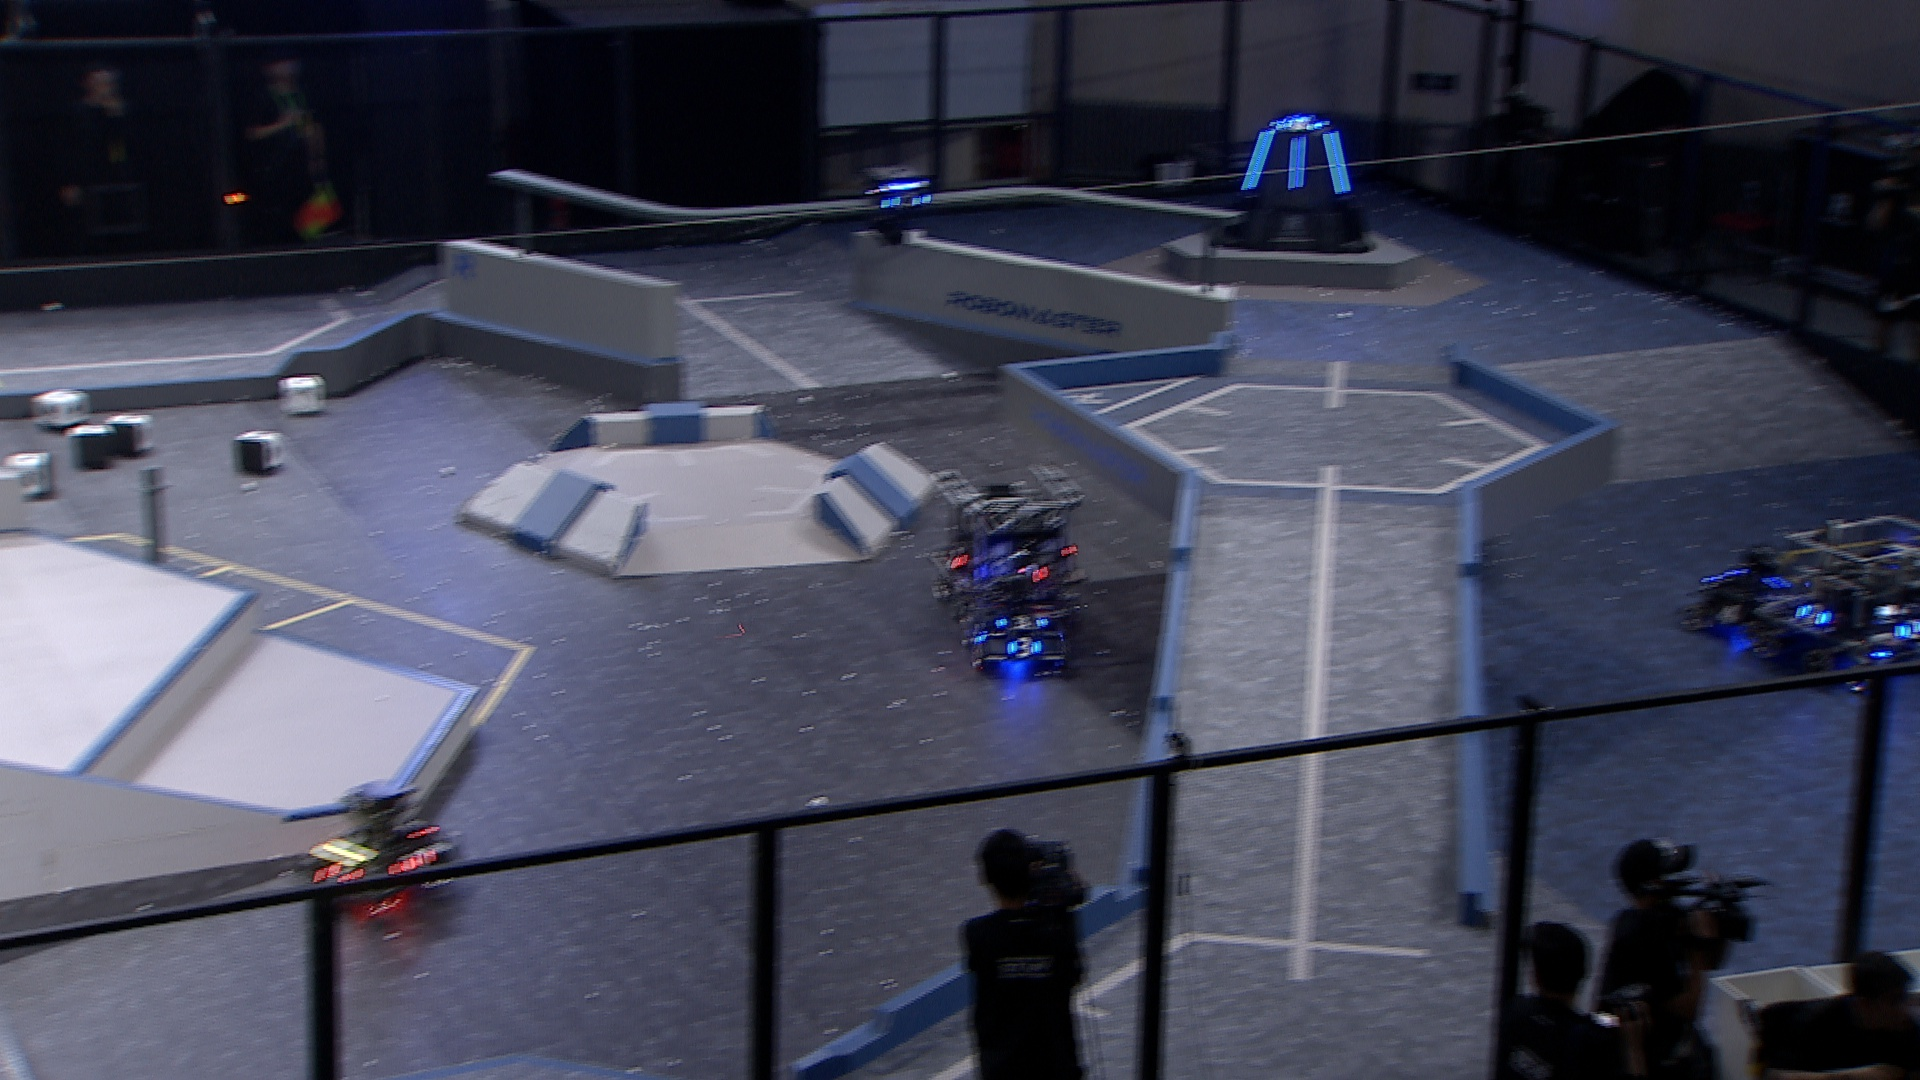armor: (1240, 128, 1276, 195), (1324, 131, 1352, 196), (314, 860, 361, 889), (1286, 135, 1307, 193), (389, 851, 434, 876), (1793, 600, 1833, 626), (994, 613, 1048, 632), (1004, 637, 1044, 661), (394, 818, 438, 839), (1015, 564, 1054, 588), (880, 191, 928, 210), (1276, 116, 1324, 135), (1712, 603, 1746, 628), (942, 546, 969, 568), (1896, 618, 1920, 642), (965, 622, 989, 644)
base: (1200, 111, 1379, 252)
car: (1764, 516, 1920, 694), (922, 462, 1087, 616), (299, 778, 462, 916), (1676, 541, 1820, 646), (956, 572, 1072, 675)
watcher: (860, 162, 935, 247)
